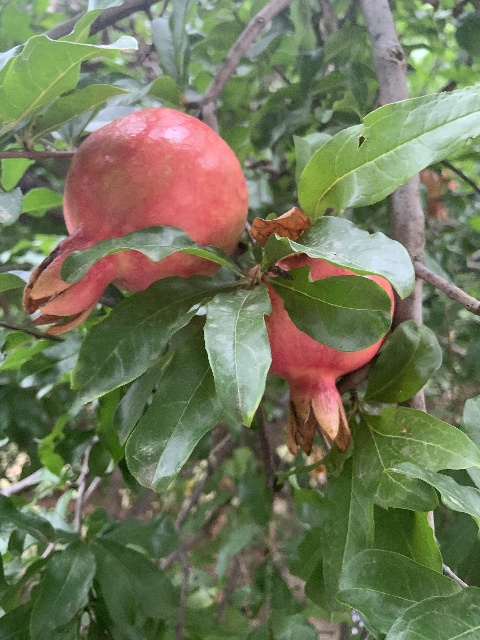ripe: (22, 106, 248, 335), (263, 252, 394, 455)
